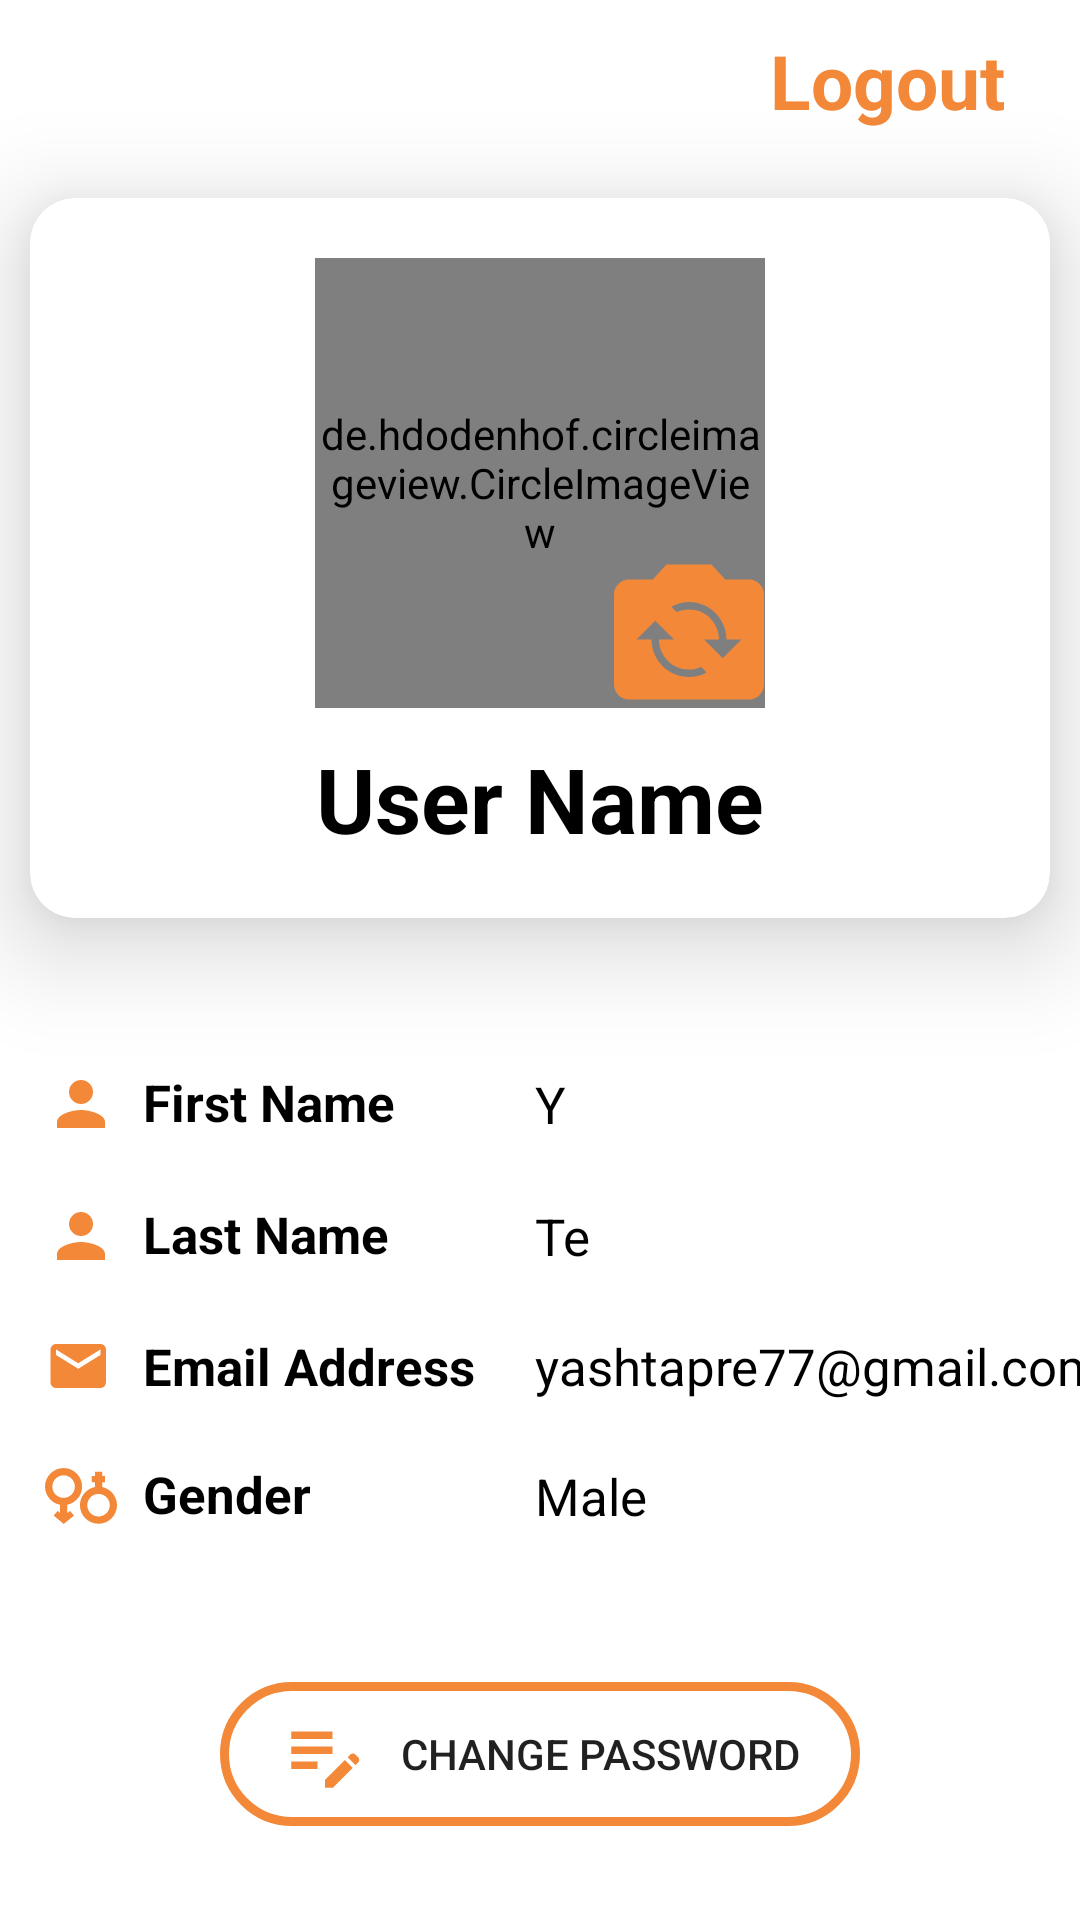

Where to tap for icons on this 1080×1920 app screen, as (x,y):
acc change: (689,632)
